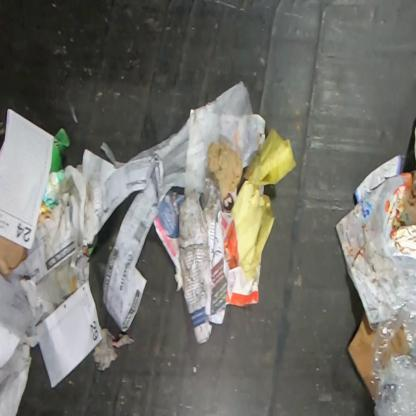cardboard: (346, 311, 376, 402)
soft_plastic: (373, 256, 416, 415)
